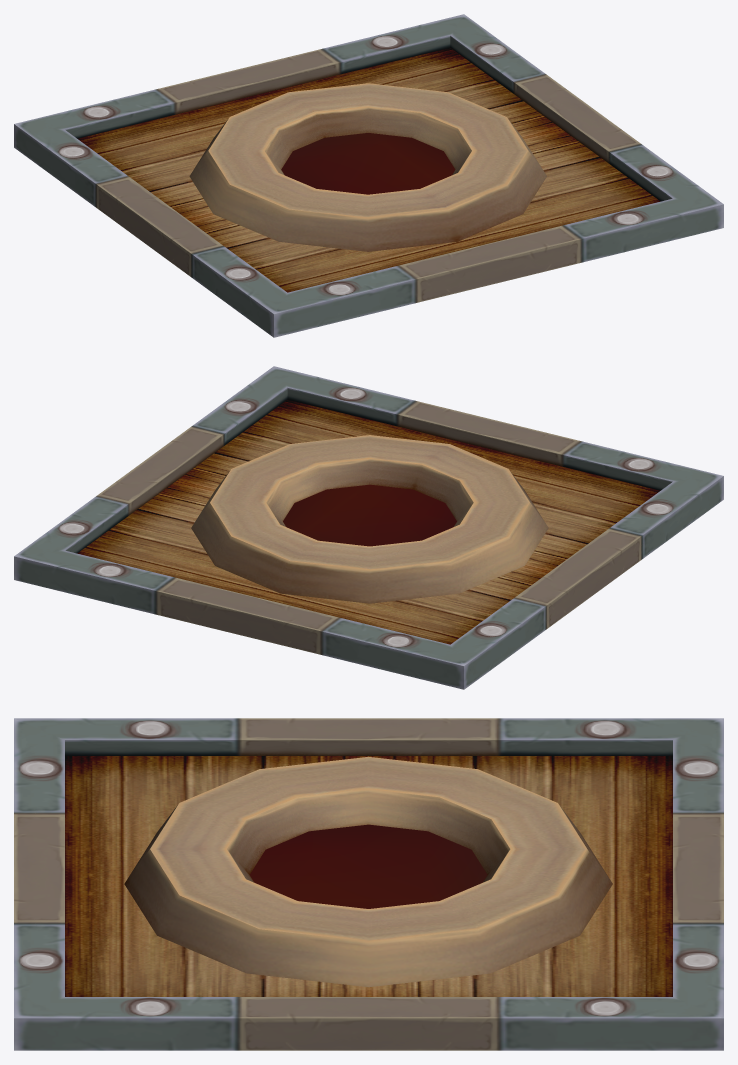
The model's file is trap_fire.DAE.
3 views of the same model, one above another, from view 1: azimuth 30°, elevation 25°; view 2: azimuth 150°, elevation 25°; view 3: azimuth 270°, elevation 25° (orthographic). The views are drawn at different scales.
Visible parts, largest first — view 1: Trap_Fire; view 2: Trap_Fire; view 3: Trap_Fire.
Boxes of the visible parts, x1,y1,x2,y2 form: Trap_Fire: (14, 14, 723, 337); Trap_Fire: (14, 366, 723, 689); Trap_Fire: (14, 718, 723, 1050).
Bounding box in the file's own units: 100 × 7.91 × 100.
1 material, 1 textured.
